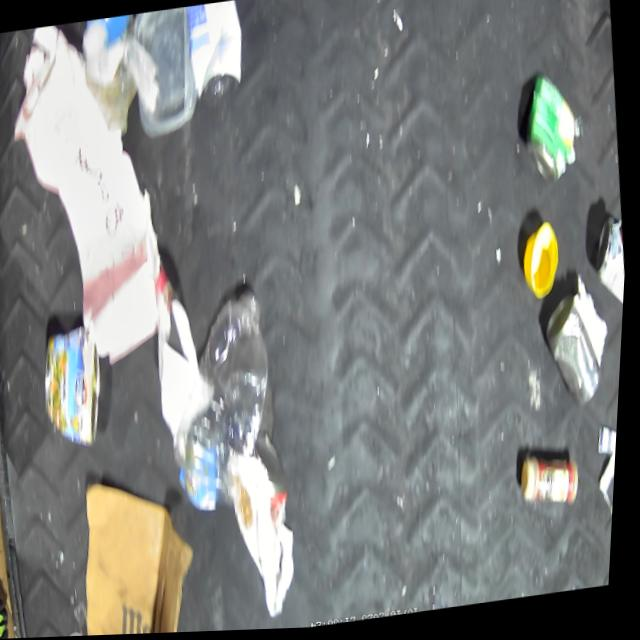can: (36, 323, 114, 454), (540, 292, 611, 417), (515, 71, 586, 193), (589, 216, 630, 328)
plastic_bottle: (161, 285, 288, 516)
